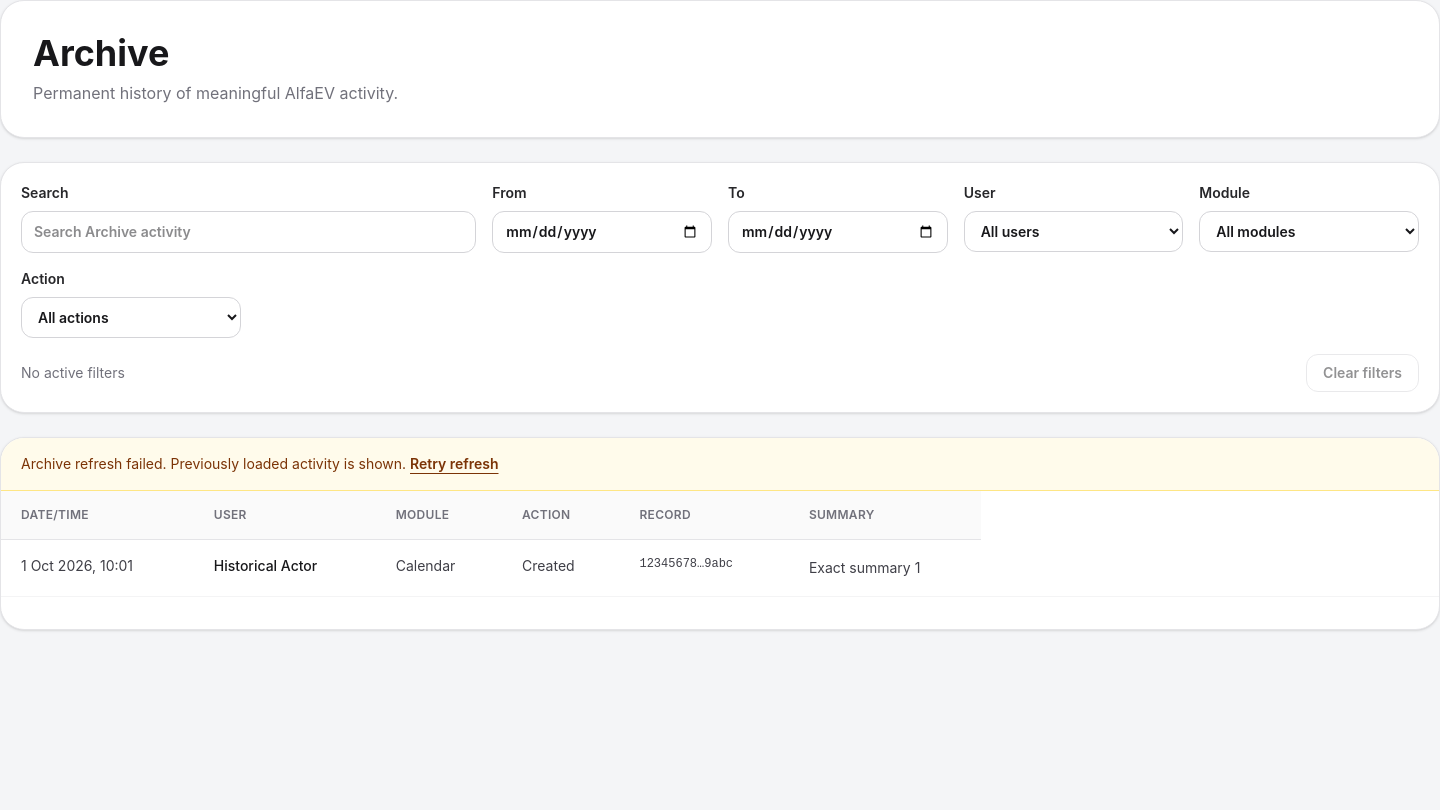
Scenario: ArchivePage › labels stale rows after a background refresh failure and offers retry
Check: the message shows "Archive refresh failed. Previously loaded activity is shown.", box [21,455,406,472]
Check: the text "Exact summary 1" is shown, box [789,540,981,596]
Step 1. Click the button "Retry refresh" → [454, 464], box [410,454,498,474]
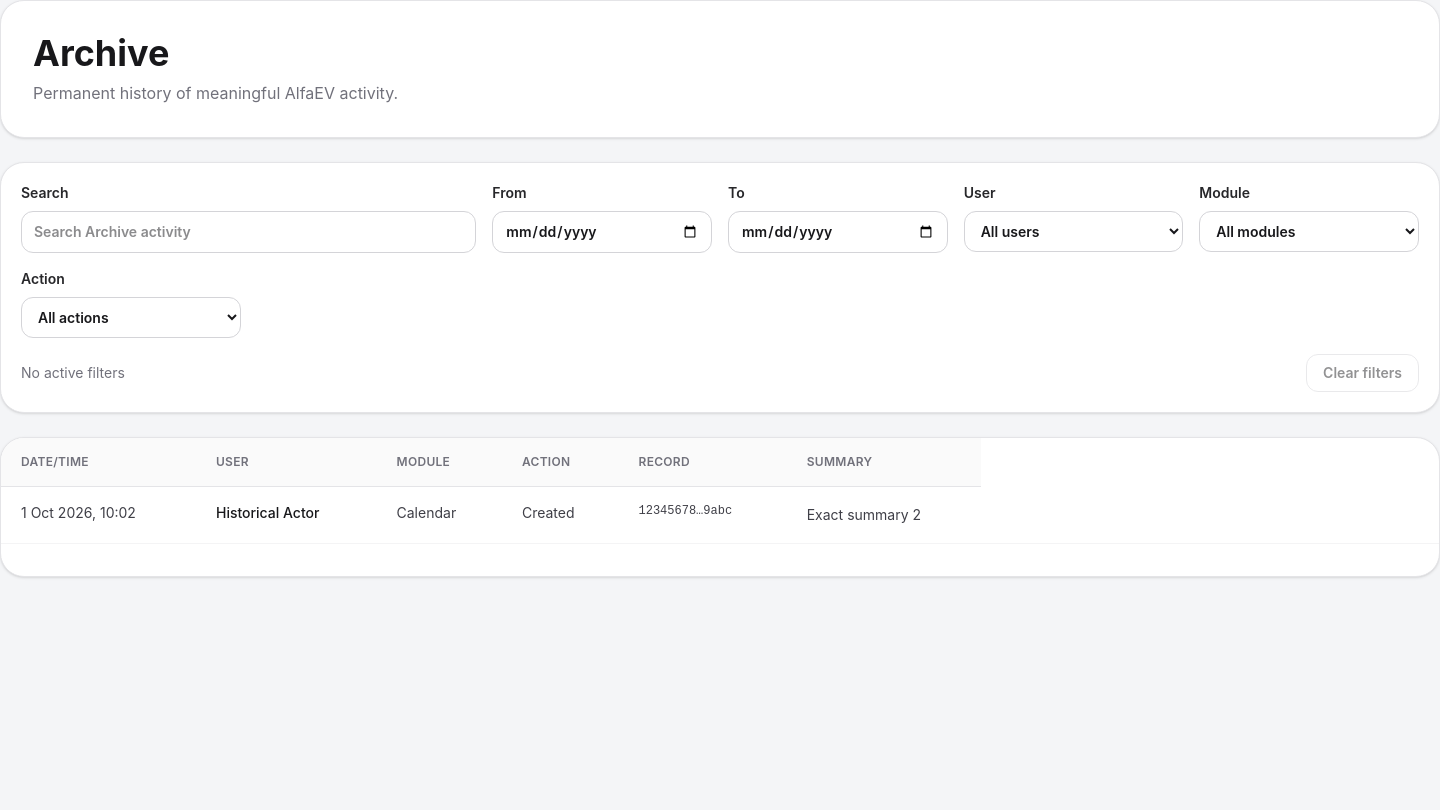
Check: the text "Exact summary 2" is shown, box [787,486,981,543]
Check: the message "Archive refresh failed. Previously loaded activity is shown. Retry refresh" is gone
